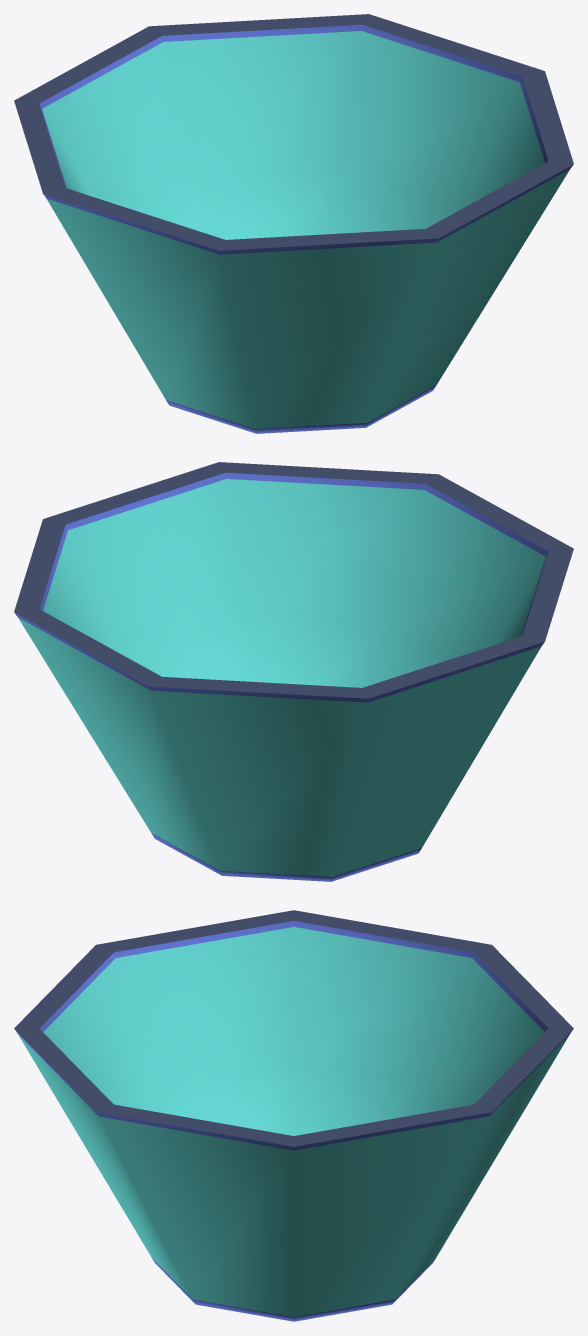
File: Bowl_Blue.fbx
3 views of the same model, one above another, from view 1: azimuth 30°, elevation 25°; view 2: azimuth 150°, elevation 25°; view 3: azimuth 270°, elevation 25° (orthographic). The views are drawn at different scales.
Visible parts, largest first — view 1: Bowl; view 2: Bowl; view 3: Bowl.
Boxes of the visible parts, x1,y1,x2,y2 form: Bowl: [14, 14, 573, 433]; Bowl: [14, 462, 573, 881]; Bowl: [14, 910, 573, 1321].
Size of the model in its own units: 68.44 by 31.63 by 68.44.
